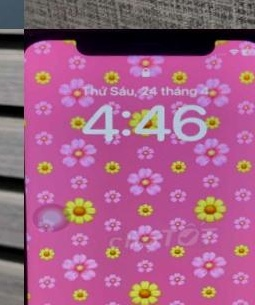scratch: (24, 29, 50, 43)
